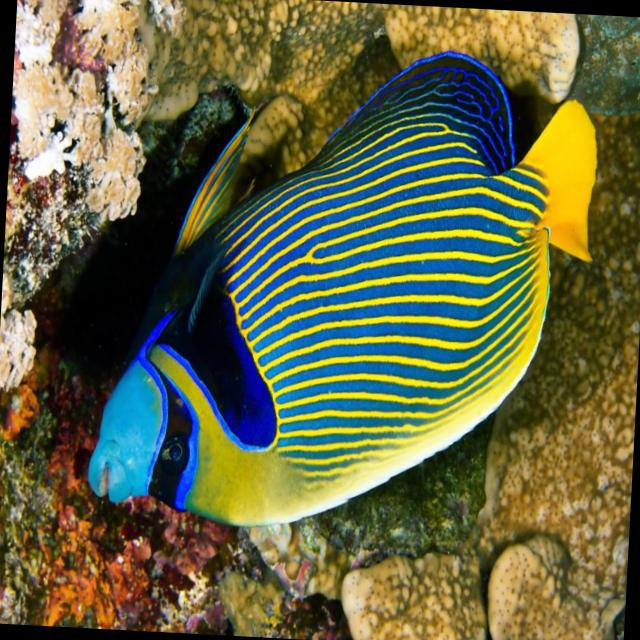AngelFish: (85, 33, 601, 542)
